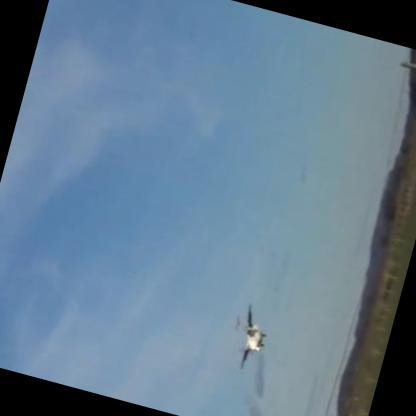plane: (228, 301, 274, 373)
